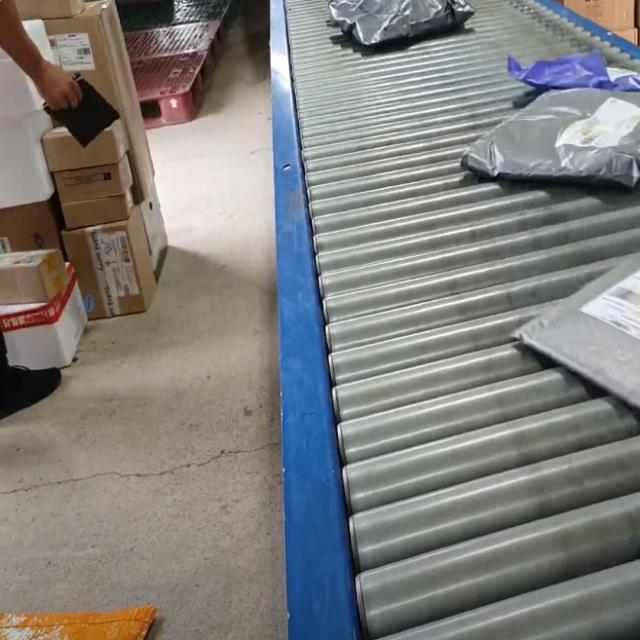bare_hand: (33, 54, 88, 123)
